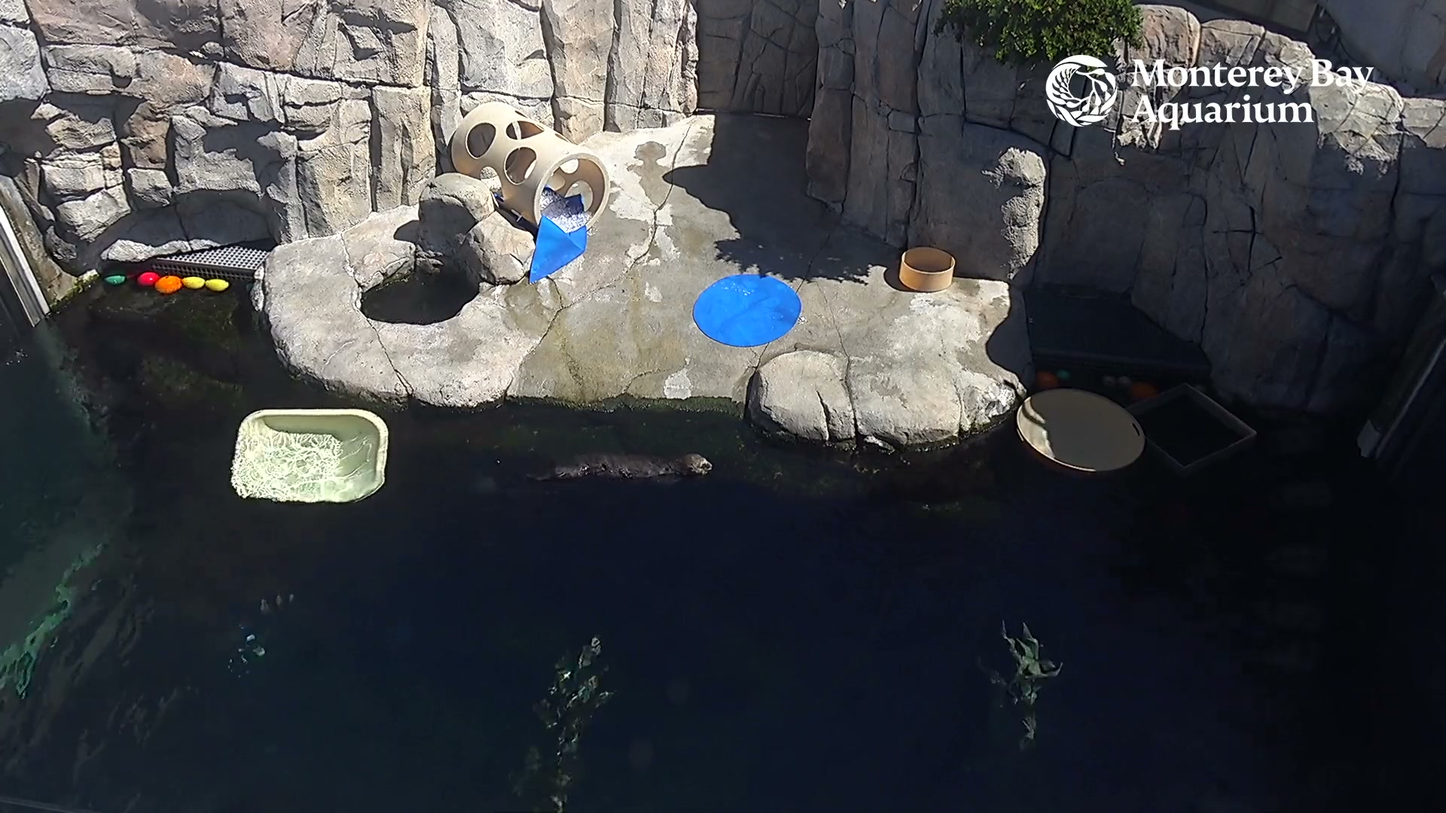Southern Sea Otter: (543, 444, 737, 524)
